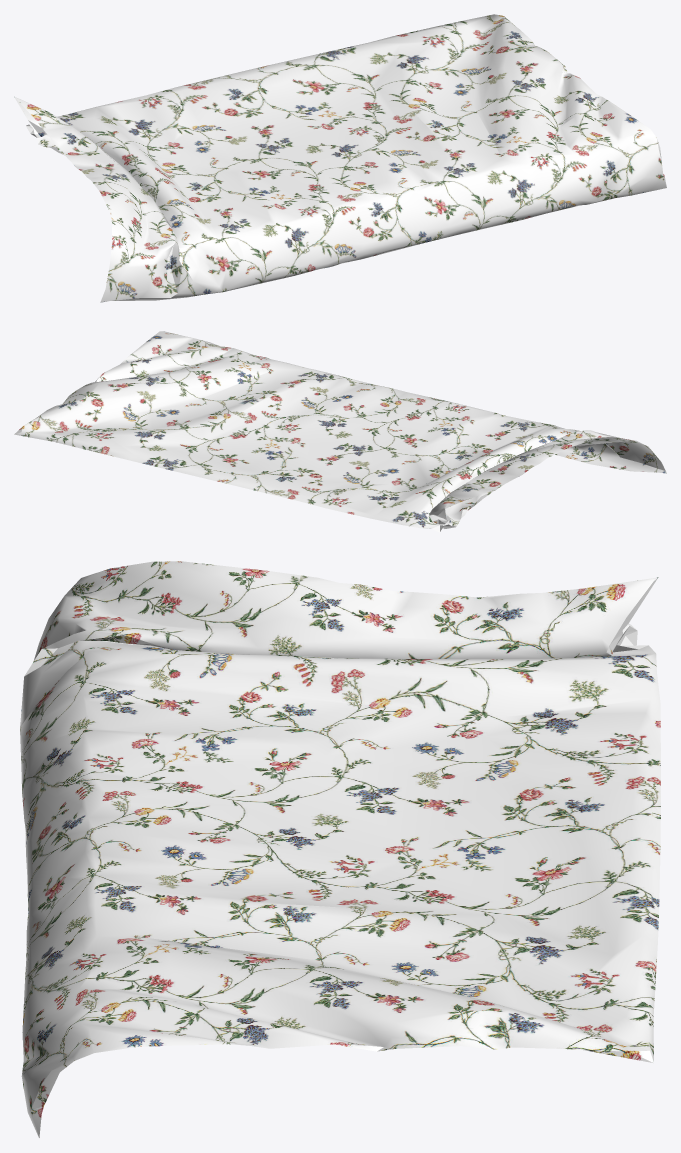
File: Blanket 1.FBX
The picture shows the model from 3 angles, top to bottom: view 1: azimuth 30°, elevation 25°; view 2: azimuth 150°, elevation 25°; view 3: azimuth 270°, elevation 25°; orthographic projection. The views are drawn at different scales.
Parts seen in each view (by area): view 1: blanket 1; view 2: blanket 1; view 3: blanket 1.
Boxes of the visible parts, box(x1,y1,x2,y2) form: blanket 1: box(14, 14, 666, 302); blanket 1: box(14, 331, 666, 532); blanket 1: box(20, 561, 660, 1137).
Size of the model in its own units: 192 by 26.26 by 106.
1 material, 1 textured.
